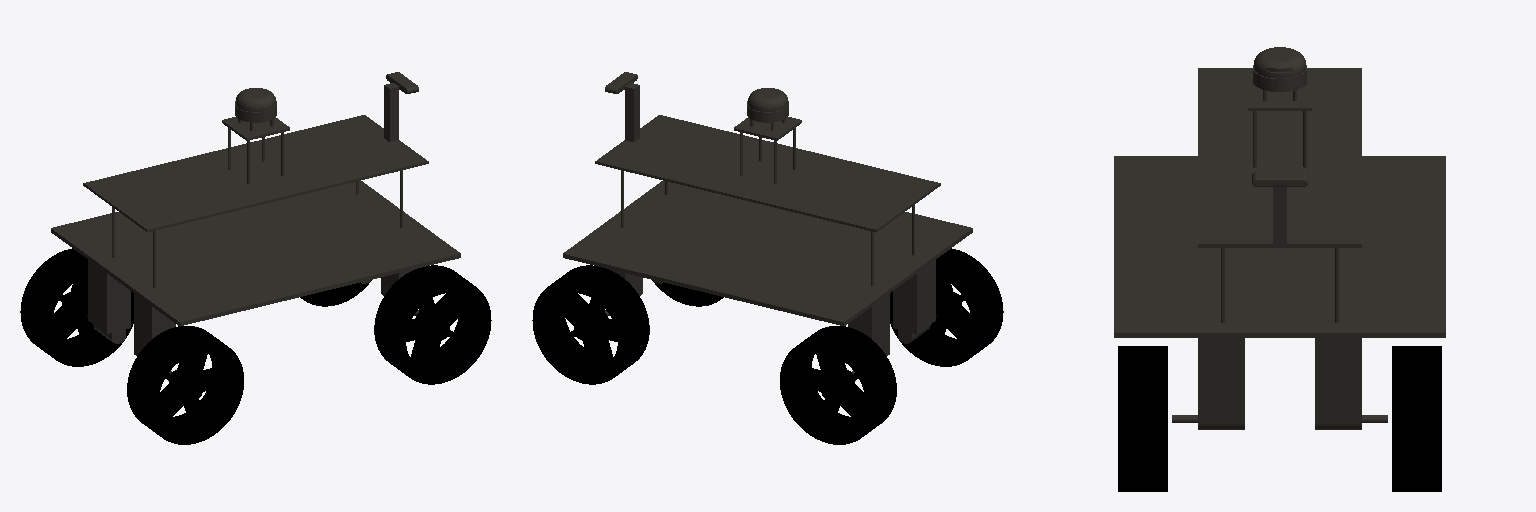
URDF robot description (mira):
<?xml version="1.0"?>
<robot name="mira">

    <!-- base -->
    <link name="base_footprint">
        <visual>
            <origin rpy="0.0 0 0" xyz="0 0 0"/>
            <geometry>
                <sphere radius="0.00001"/>
            </geometry>
        </visual>
	</link>

    <link name="base_link">
        <visual>
            <origin rpy="0.0 0 0" xyz="0 0 0"/>
            <geometry>
                <mesh filename="package://isrl_urdf/meshes/body.dae"/>
            </geometry>
        </visual>
	</link>

    <!-- base link -->

    <joint name="base_foot_link" type="fixed">
        <parent link="base_footprint"/>
        <child link="base_link"/>
        <origin xyz="0.0 0.0 0.255" rpy="0 0 0"/>
        <axis xyz="0 0 0"/>
    </joint>


    <!-- wheels -->
    <link name="RF_Wheel">
        <visual>
            <origin rpy="0 0 0" xyz="0 0 0"/>
            <geometry>
                <mesh filename="package://isrl_urdf/meshes/wheel.dae"/>
            </geometry>
        </visual>
    </link>

    <link name="RB_Wheel">
        <visual>
            <origin rpy="0 0 0" xyz="0 0 0"/>
            <geometry>
                <mesh filename="package://isrl_urdf/meshes/wheel.dae"/>
            </geometry>
        </visual>
    </link>

    <link name="LF_Wheel">
        <visual>
            <origin rpy="0 0 0" xyz="0 0 0"/>
            <geometry>
                <mesh filename="package://isrl_urdf/meshes/wheel.dae"/>
            </geometry>
        </visual>
    </link>

    <link name="LB_Wheel">
        <visual>
            <origin rpy="0 0 0" xyz="0 0 0"/>
            <geometry>
                <mesh filename="package://isrl_urdf/meshes/wheel.dae"/>
            </geometry>
        </visual>
    </link>

    <!-- wheels joints -->
    <joint name="RF_Wheel_joint" type="continuous">
        <parent link="base_link"/>
        <child link="RF_Wheel"/>
        <origin xyz="0.2545 -0.190 -0.140" rpy="0 0 3.141592"/>
        <limit effort="0.1" velocity="15.0"/>
        <axis xyz="0 1 0"/>
    </joint>

    <joint name="RB_Wheel_joint" type="continuous">
        <parent link="base_link"/>
        <child link="RB_Wheel"/>
        <origin xyz="-0.2545 -0.190 -0.140" rpy="0 0 0"/>
        <limit effort="0.1" velocity="15.0"/>
        <axis xyz="0 1 0"/>
    </joint>

    <joint name="LF_Wheel_joint" type="continuous">
        <parent link="base_link"/>
        <child link="LF_Wheel"/>
        <origin xyz="0.2545 0.190 -0.140" rpy="0 0 3.141592"/>
        <limit effort="0.1" velocity="15.0"/>
        <axis xyz="0 1 0"/>
    </joint>

    <joint name="LB_Wheel_joint" type="continuous">
        <parent link="base_link"/>
        <child link="LB_Wheel"/>
        <origin xyz="-0.2545 0.190 -0.140" rpy="0 0 0"/>
        <limit effort="0.1" velocity="15.0"/>
        <axis xyz="0 1 0"/>
    </joint>

    <!-- sensors -->
    <link name="laser">
        <visual>
            <origin rpy="0 0 0" xyz="0 0 0"/>
            <geometry>
                <sphere radius="0.0001"/>
            </geometry>
        </visual>
    </link>

    <link name="camera_link">
        <visual>
            <origin rpy="0 0 0" xyz="0 0 0"/>
            <geometry>
                <sphere radius="0.0001"/>
            </geometry>
        </visual>
    </link>

    <!-- sensors joints -->

    <joint name="laser_joint" type="fixed">
        <parent link="base_link"/>
        <child link="laser"/>
        <origin xyz="0 0 0.350" rpy="0 0 0"/>
        <axis xyz="1 0 0"/>
    </joint>

    <joint name="camera_joint" type="fixed">
        <parent link="base_link"/>
        <child link="camera_link"/>
        <origin xyz="0.315 0 0.248" rpy="0 0 0"/>
        <axis xyz="1 0 0"/>
    </joint>

</robot>

--- What the picture shows (computed from the rendered views, not written in the file) ---
The picture shows the robot from 3 angles, left to right: view 1: azimuth 30°, elevation 25°; view 2: azimuth 150°, elevation 25°; view 3: azimuth 270°, elevation 25°; orthographic projection.
Robot: mira — 8 links, 7 joints (4 continuous, 3 fixed); root link base_footprint; default pose: all joints at 0.
Links seen in each view (by area): view 1: base_link, RB_Wheel, RF_Wheel, LB_Wheel, LF_Wheel; view 2: base_link, LB_Wheel, LF_Wheel, RB_Wheel, RF_Wheel; view 3: base_link, RF_Wheel, LF_Wheel.
Link boxes in pixels (left/top/right/bottom): base_link: left=51, top=72, right=460, bottom=373; RB_Wheel: left=127, top=326, right=243, bottom=444; RF_Wheel: left=374, top=265, right=491, bottom=384; LB_Wheel: left=20, top=248, right=133, bottom=366; LF_Wheel: left=300, top=280, right=371, bottom=306; base_link: left=563, top=72, right=972, bottom=373; LB_Wheel: left=780, top=326, right=896, bottom=444; LF_Wheel: left=532, top=265, right=649, bottom=384; RB_Wheel: left=890, top=248, right=1003, bottom=366; RF_Wheel: left=652, top=280, right=723, bottom=306; base_link: left=1114, top=47, right=1445, bottom=429; RF_Wheel: left=1118, top=346, right=1167, bottom=491; LF_Wheel: left=1392, top=346, right=1441, bottom=491.
Bounding box of the posed robot: 0.7101 × 0.46 × 0.6051 m (x, y, z).
5 mesh visuals loaded from 2 distinct referenced files (2 Collada DAE).